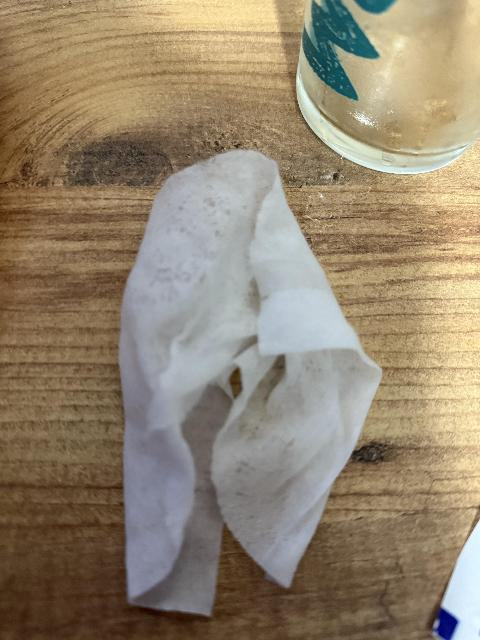Cam: (295, 1, 480, 171)
Kagit: (120, 149, 382, 624)
